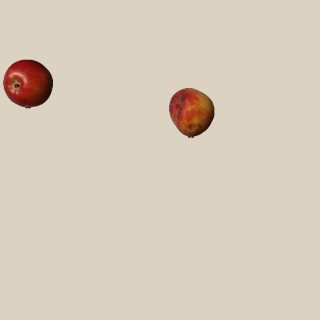Apple Braeburn: (2, 58, 52, 108)
Peach: (166, 87, 216, 137)
